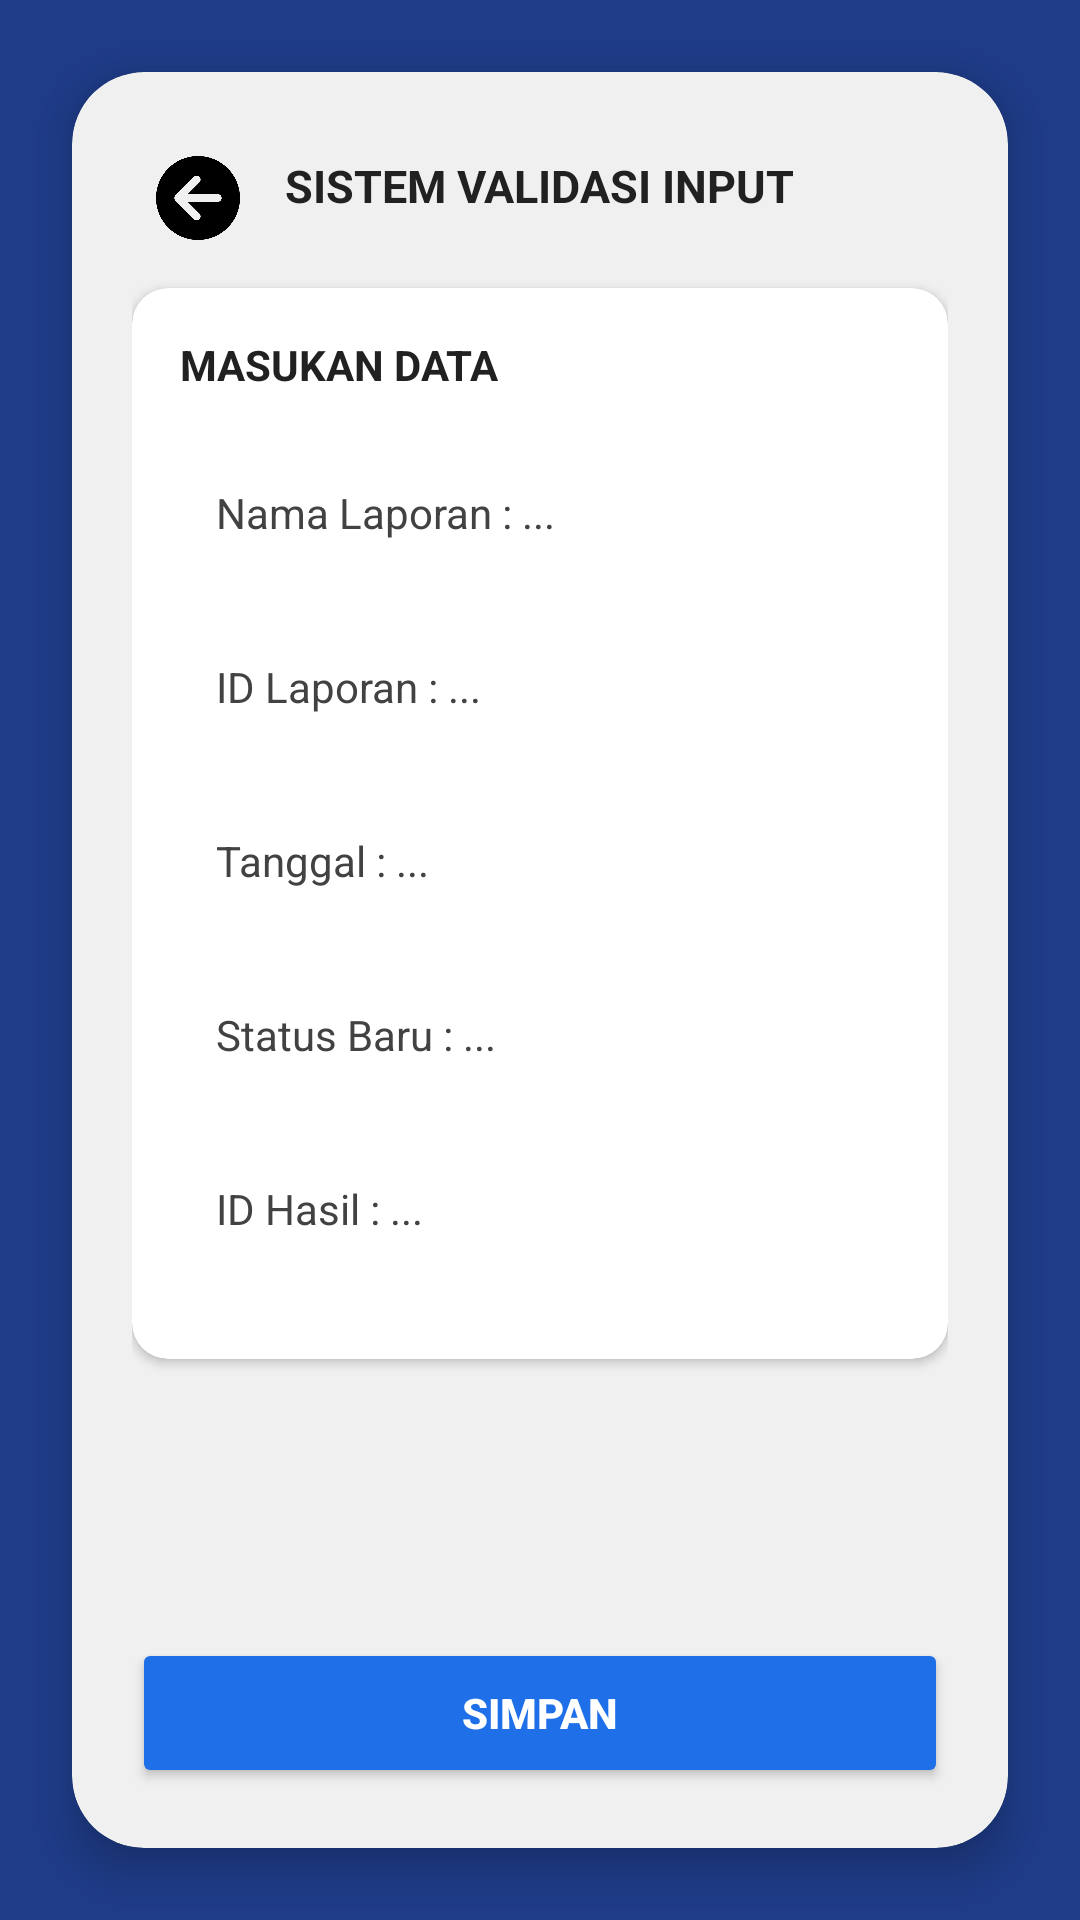

Point at icon controls on the screen. Image size 1080w x 1920h, points as [x,y].
Back: [198,198]
